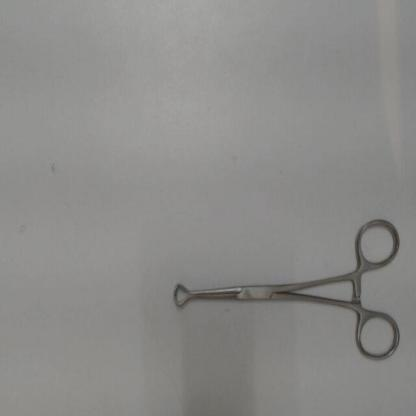Babcock Tissue Forceps: (170, 211, 404, 366)
